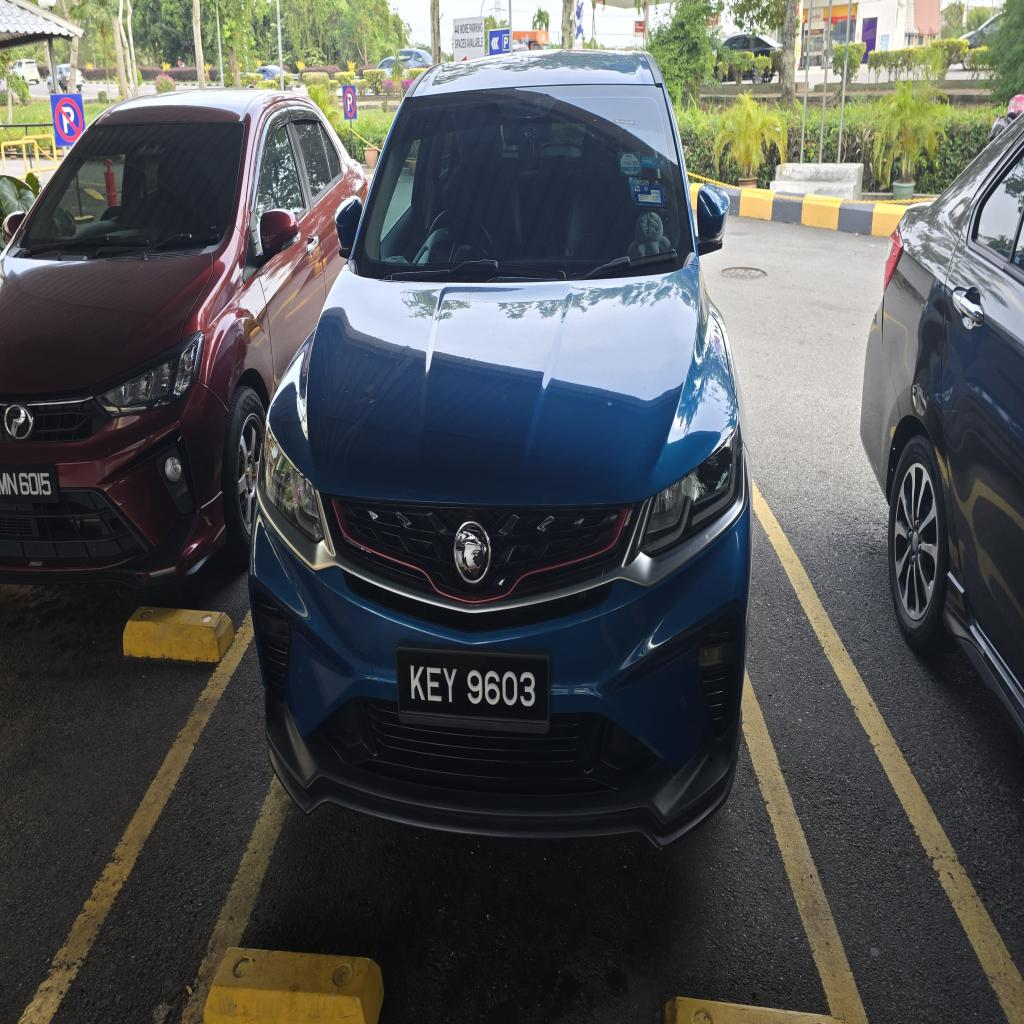car: (250, 51, 751, 844)
car plate: (397, 645, 549, 732)
